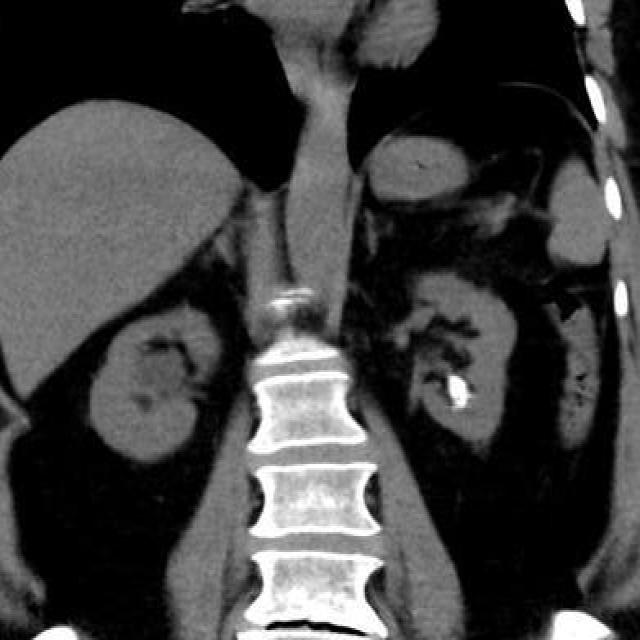Tas_Var: (448, 374, 470, 398), (447, 398, 471, 410)
